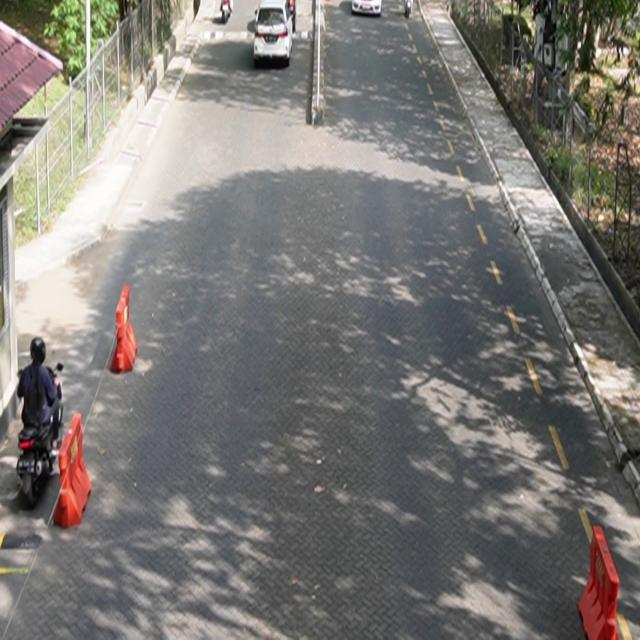car: (253, 1, 294, 67), (352, 1, 383, 17)
